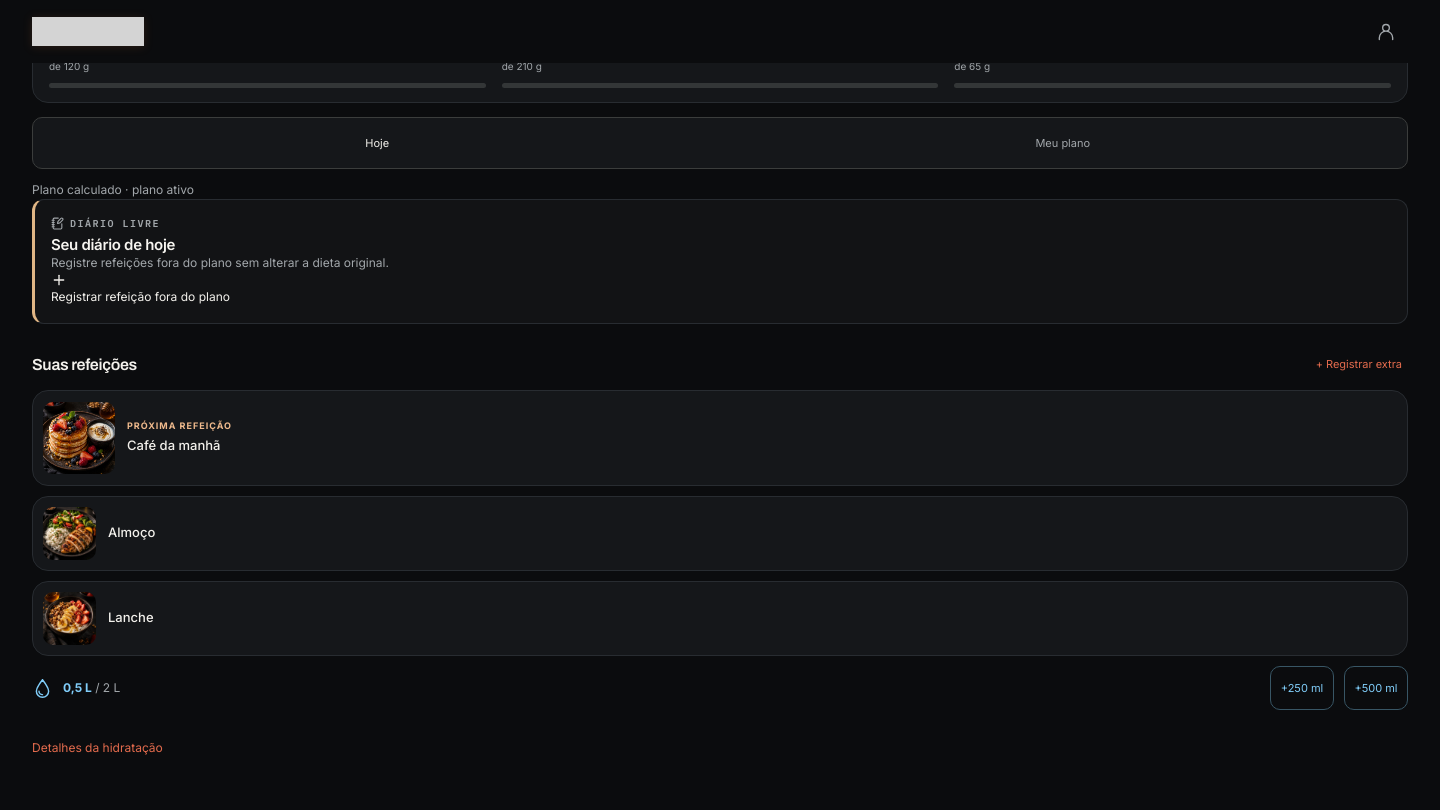
Scenario: nutrition summary refreshes from saved meal data and preserves every meal
(page scrolled)
Expected: the number of elements with class "a6-meal-details" is 3, top-left (32, 390), bottom-right (1408, 486); top-left (32, 496), bottom-right (1408, 571); top-left (32, 581), bottom-right (1408, 656)
Click the heading "PRÓXIMA REFEIÇÃO Café da manhã": (138, 438) top-left (43, 402), bottom-right (232, 474)
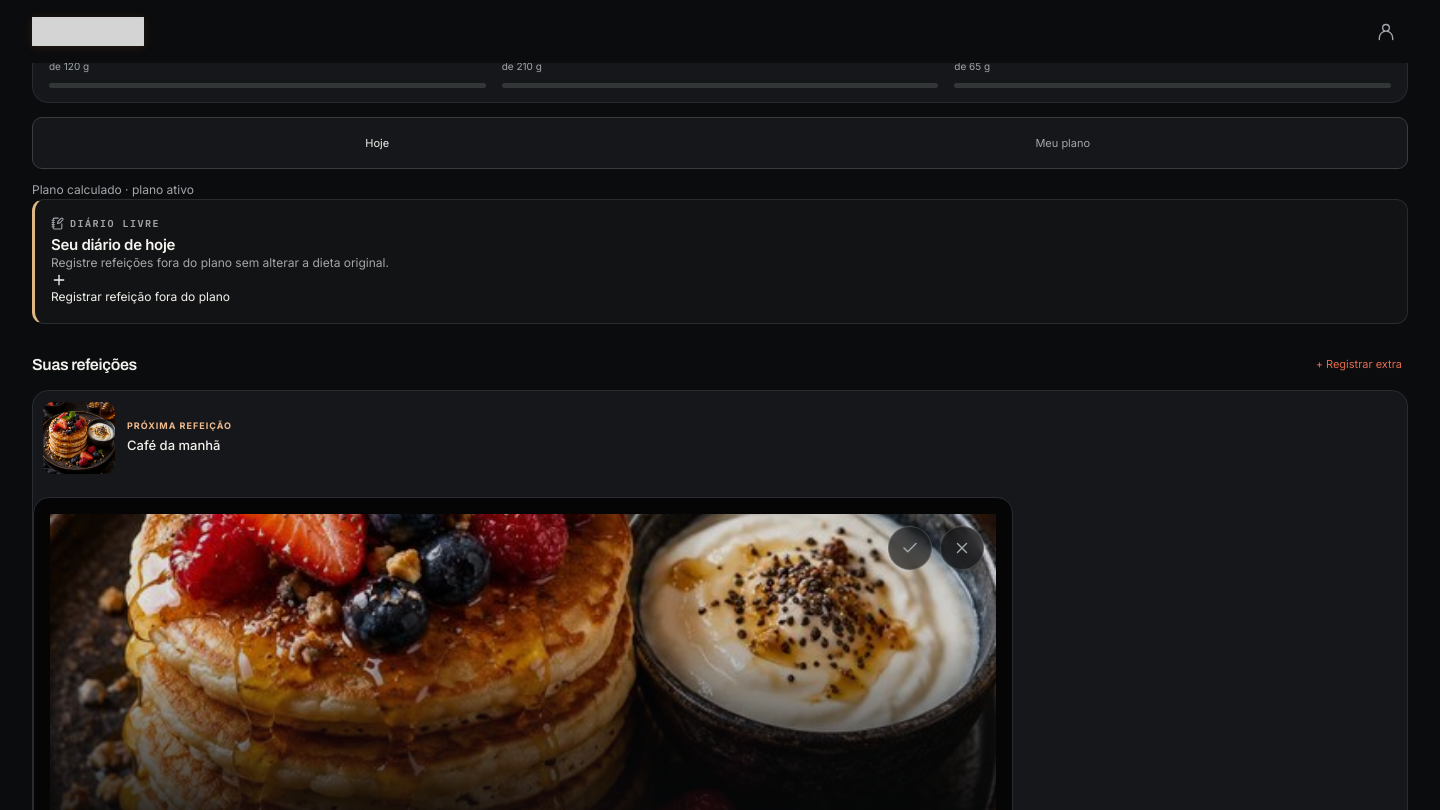
Result: the button with test id "meal-complete-0" is shown
Click the button with test id "meal-complete-0": (910, 548) top-left (888, 526), bottom-right (932, 570)
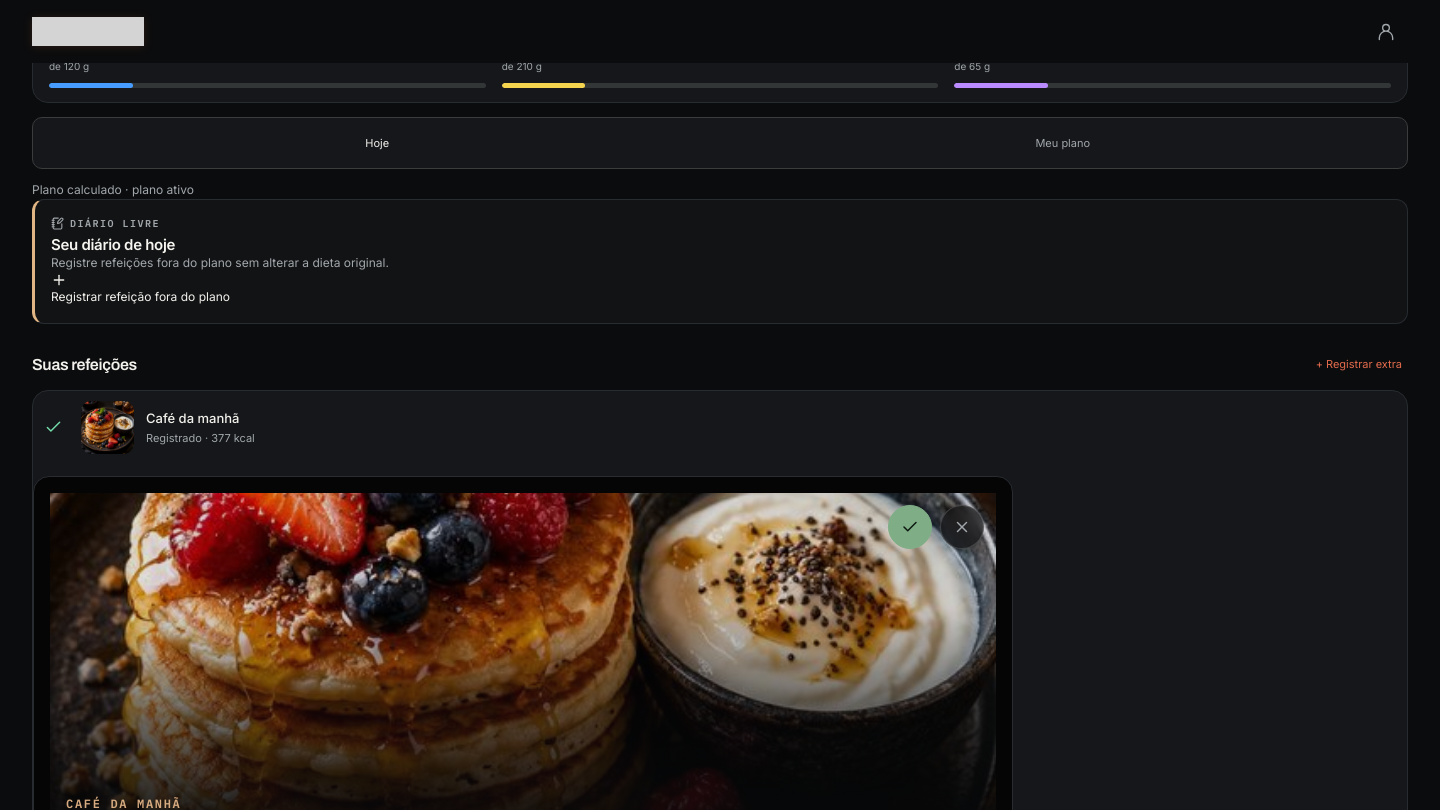
Result: the heading "Café da manhã Registrado · 377 kcal" is shown at top-left (43, 401), bottom-right (255, 454)
